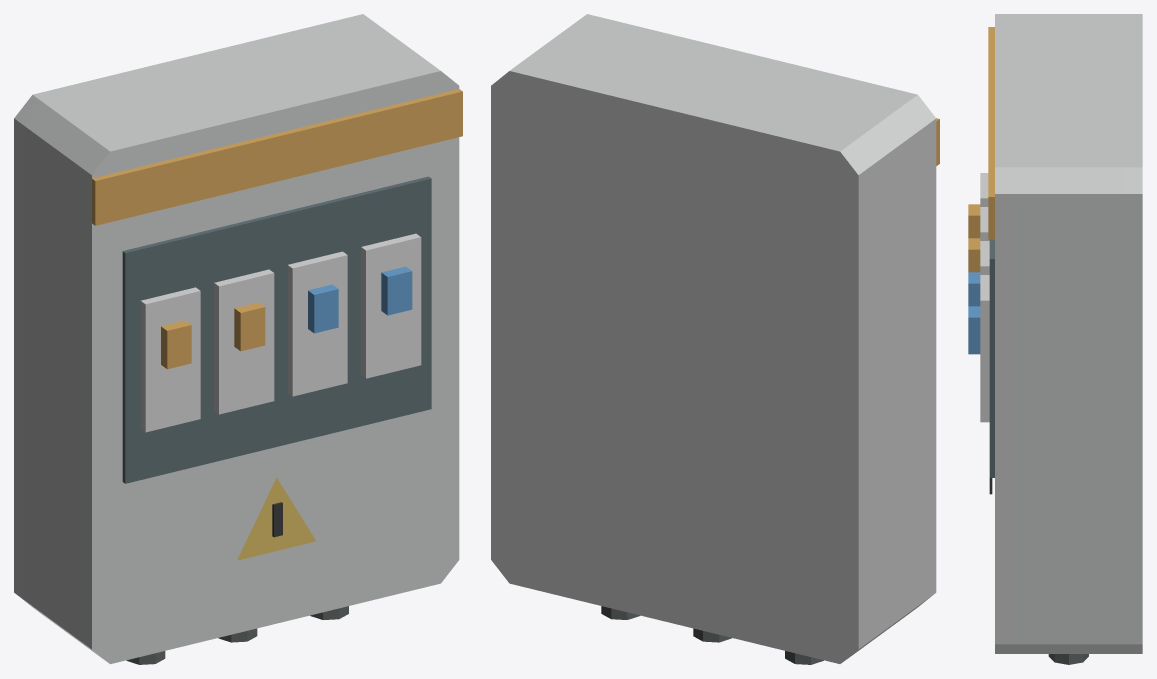
Rendered from protection.glb.
3 renders of one model, left to right at view 1: azimuth 30°, elevation 25°; view 2: azimuth 150°, elevation 25°; view 3: azimuth 270°, elevation 25°, orthographic. The views are drawn at different scales.
Visible parts, largest first — view 1: body; view 2: body; view 3: body.
Part boxes in pixels (x1,y1,x2,y2): body: [14, 14, 462, 664]; body: [491, 14, 939, 664]; body: [968, 14, 1142, 664].
Bounding box in the file's own units: 0.6002 × 0.8601 × 0.26.
